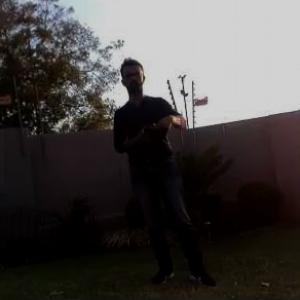follow: (109, 53, 220, 289)
